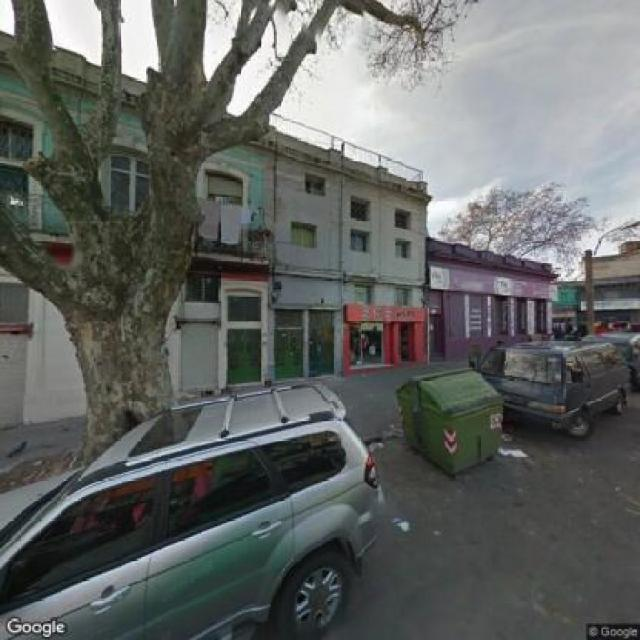garbage: (362, 414, 418, 536), (475, 429, 532, 464)
